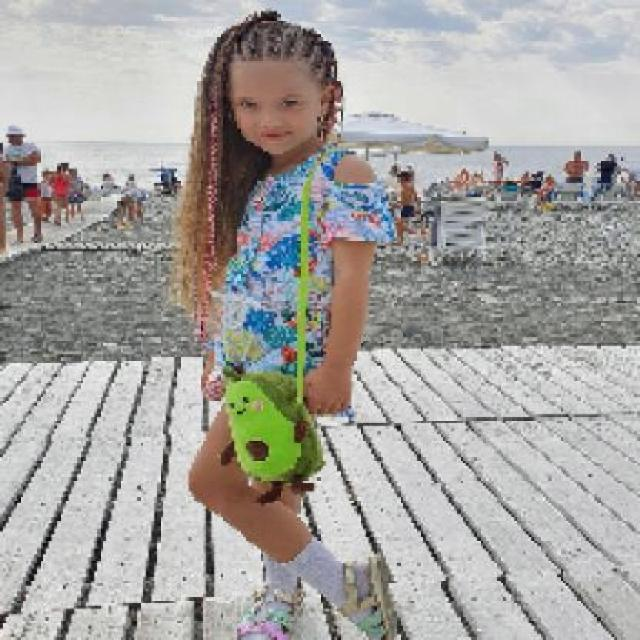child: (169, 5, 400, 638)
